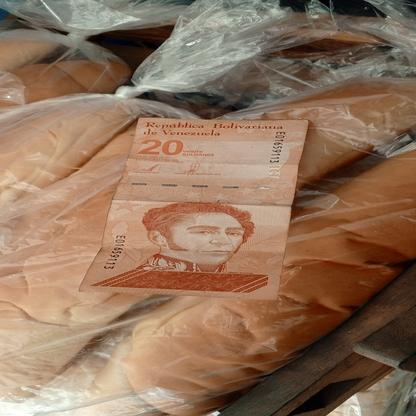twenty-front-vef: (105, 112, 339, 298)
